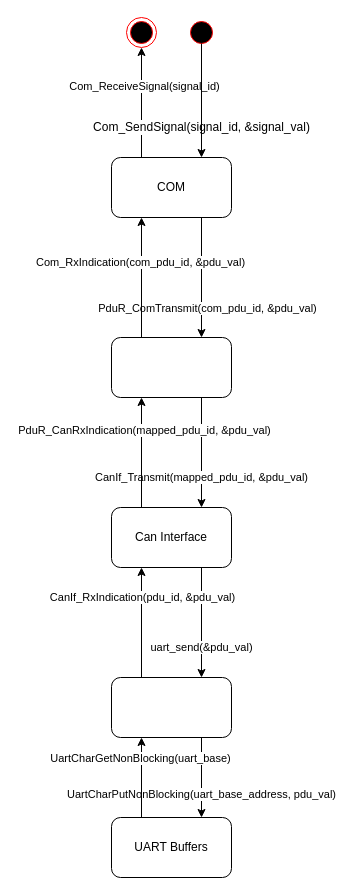
The diagram is 353 pixels wide and 895 high, and some of its shapes have lost their labels. The centre of each missing label's shape, as x and y in pixels:
"PDU Router" belongs at point 171,367.
"UART" belongs at point 171,707.
